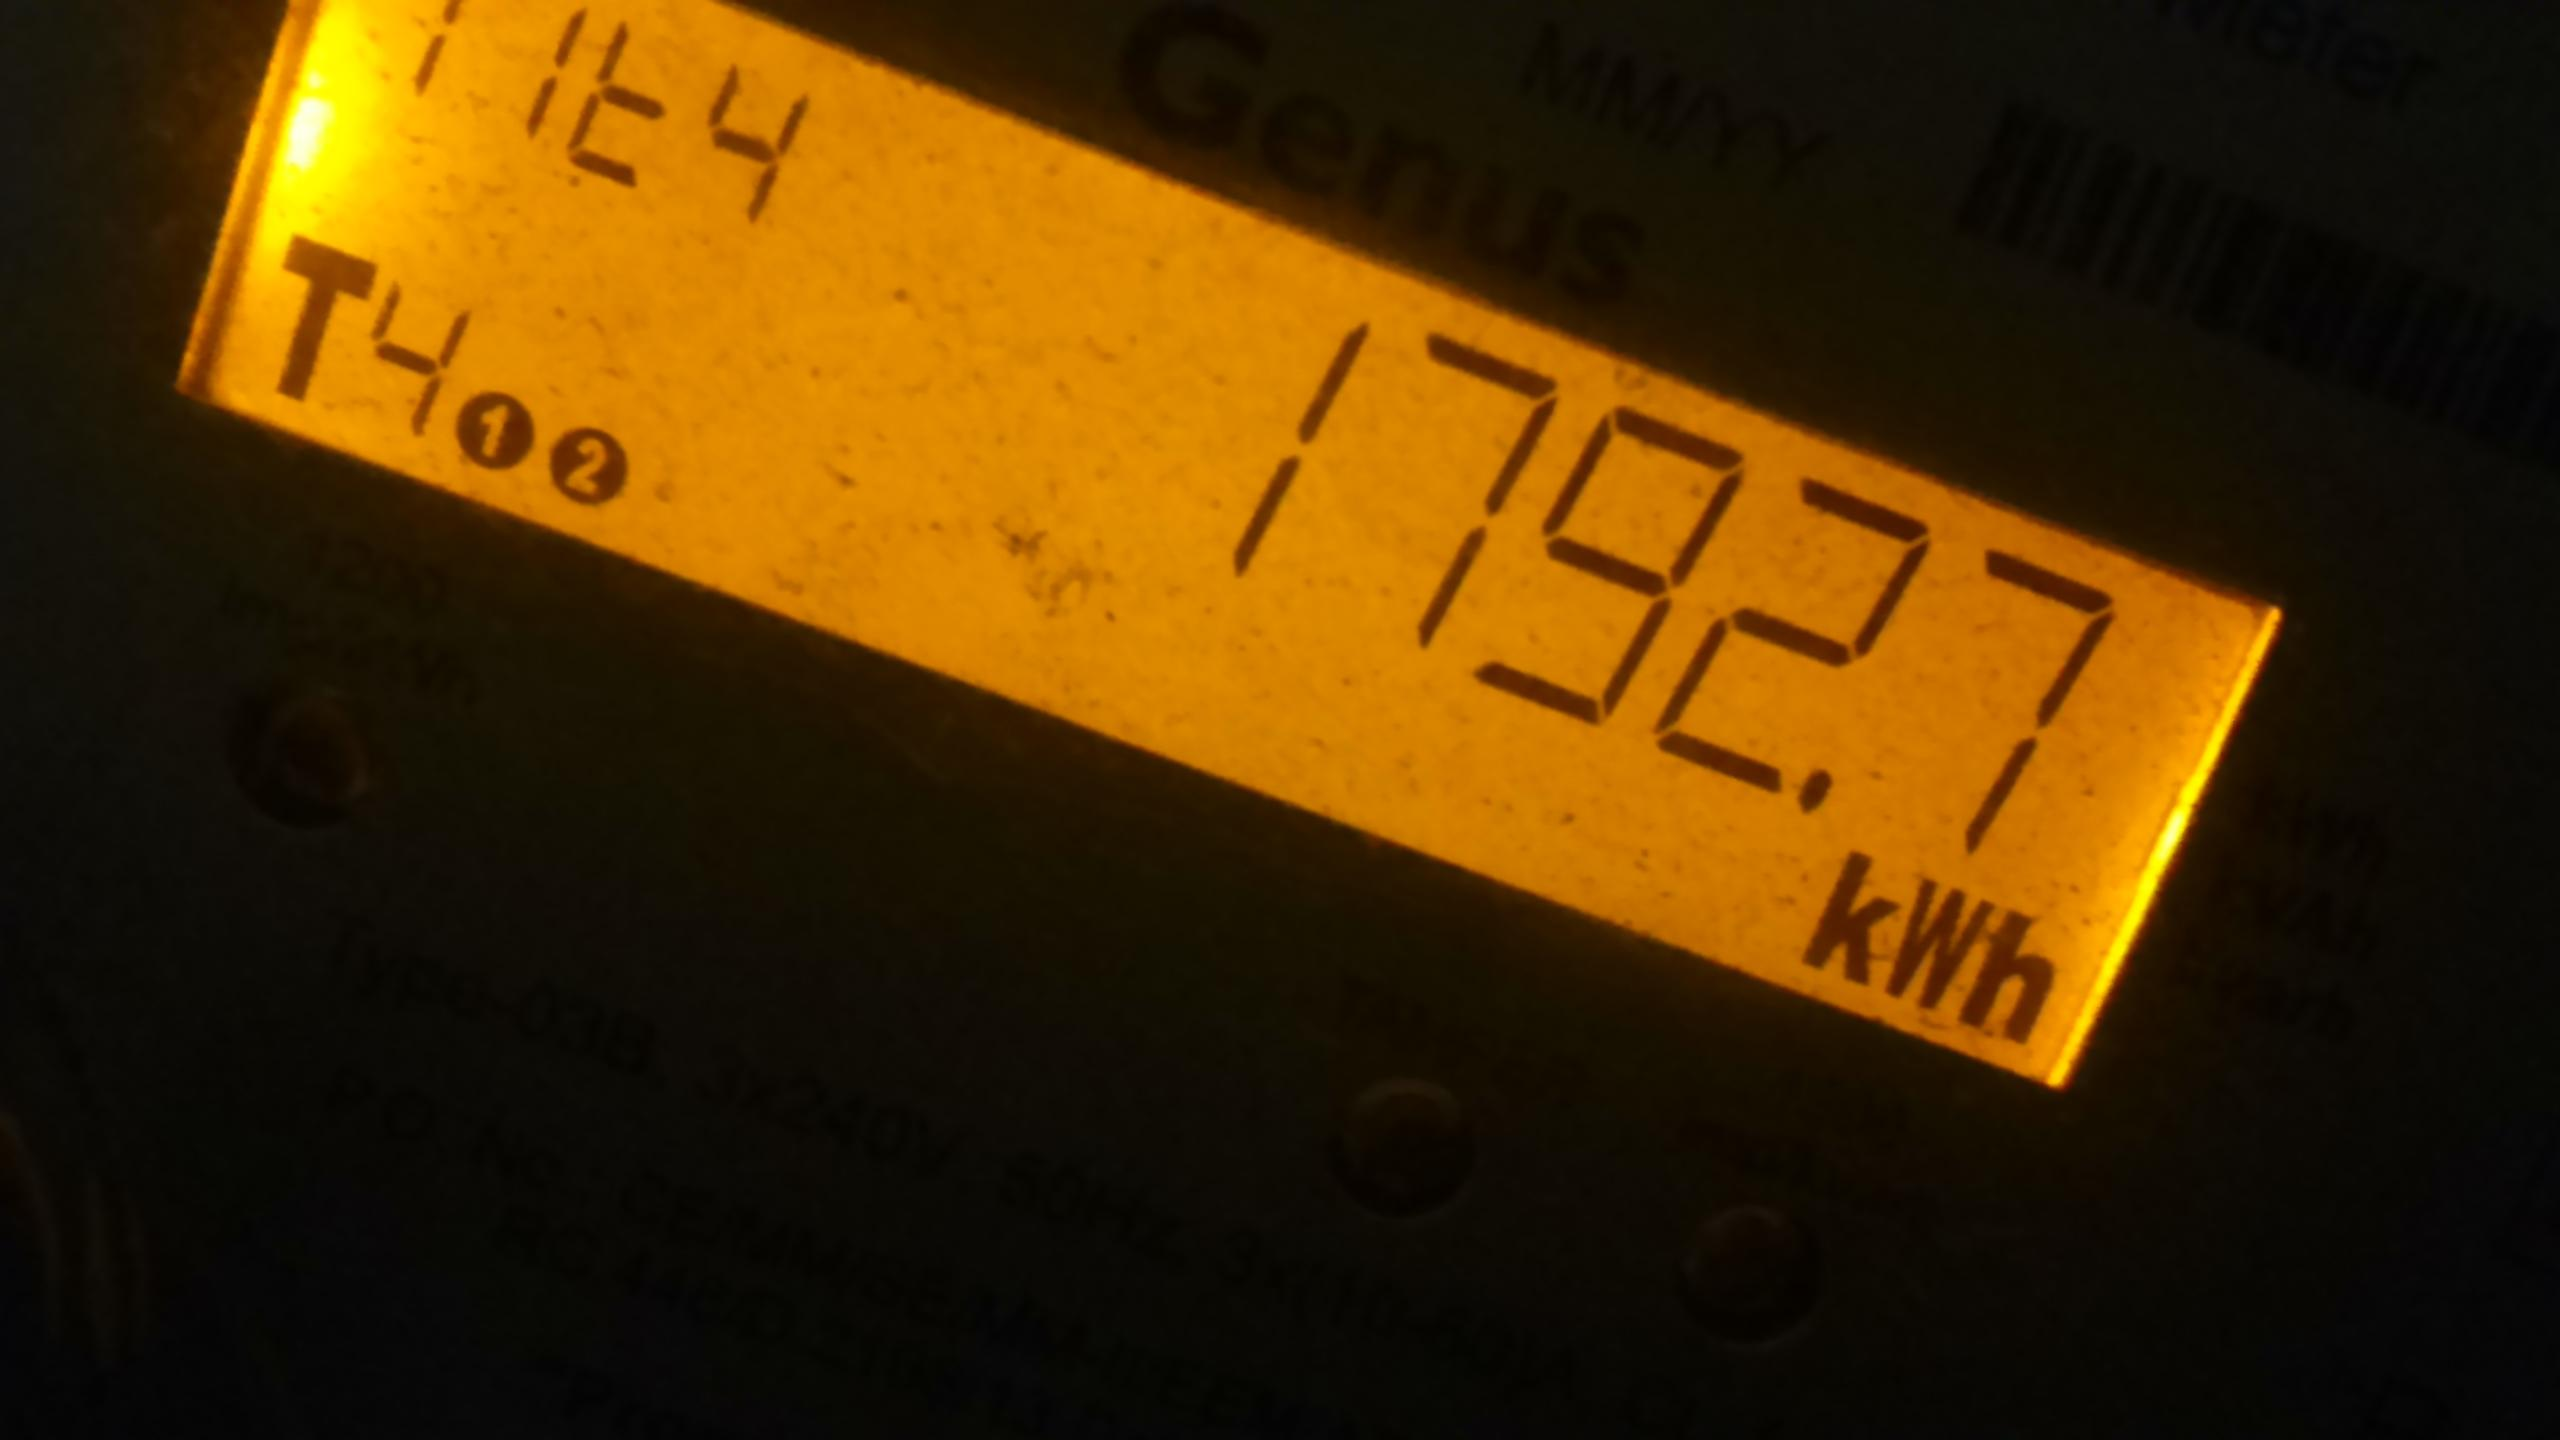.: (1809, 842, 2064, 1081)
0: (1758, 693, 1873, 869)
2: (1194, 278, 1393, 608)
3: (1651, 459, 1922, 782)
8: (1960, 533, 2142, 898), (1335, 308, 1523, 640)
:: (1480, 394, 1707, 753)
